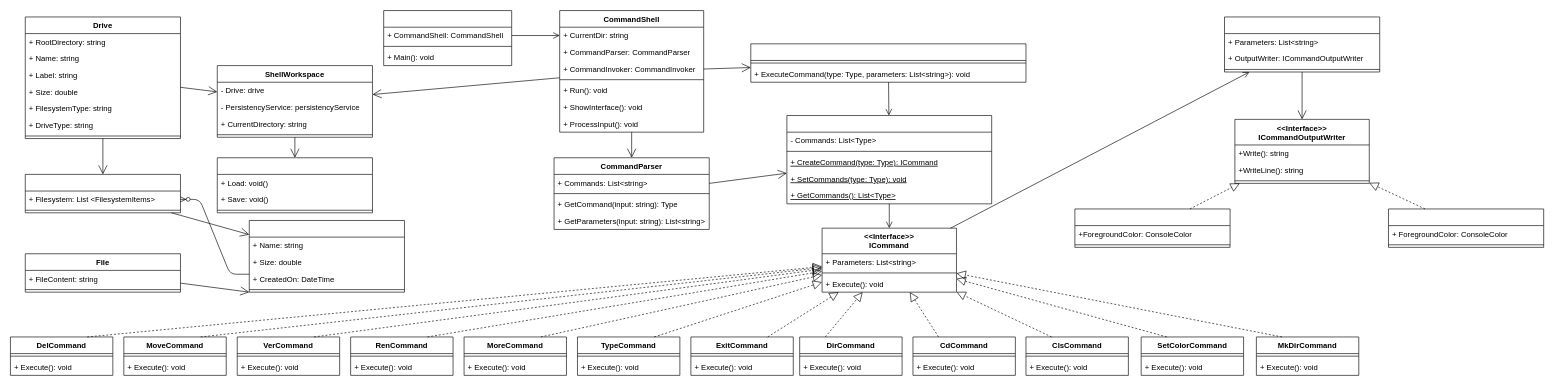
Some shapes in this 1554 by 386 pixel diagram are drawn without their labels. The shapes that lost their labels are listed below. From the top down, each one's box as (x1, y1, x2, y2) in pixels, then its label:
(383, 10, 512, 66): Program
(1224, 16, 1380, 72): CommandContext
(750, 43, 1026, 82): CommandInvoker
(786, 115, 992, 204): CommandFactory
(25, 174, 180, 213): Directory
(217, 157, 372, 213): PersistencyService
(1074, 208, 1230, 247): TestCommandOutputWriter
(1388, 208, 1544, 247): CommandOutputWriter
(249, 220, 404, 292): FilesystemItem
